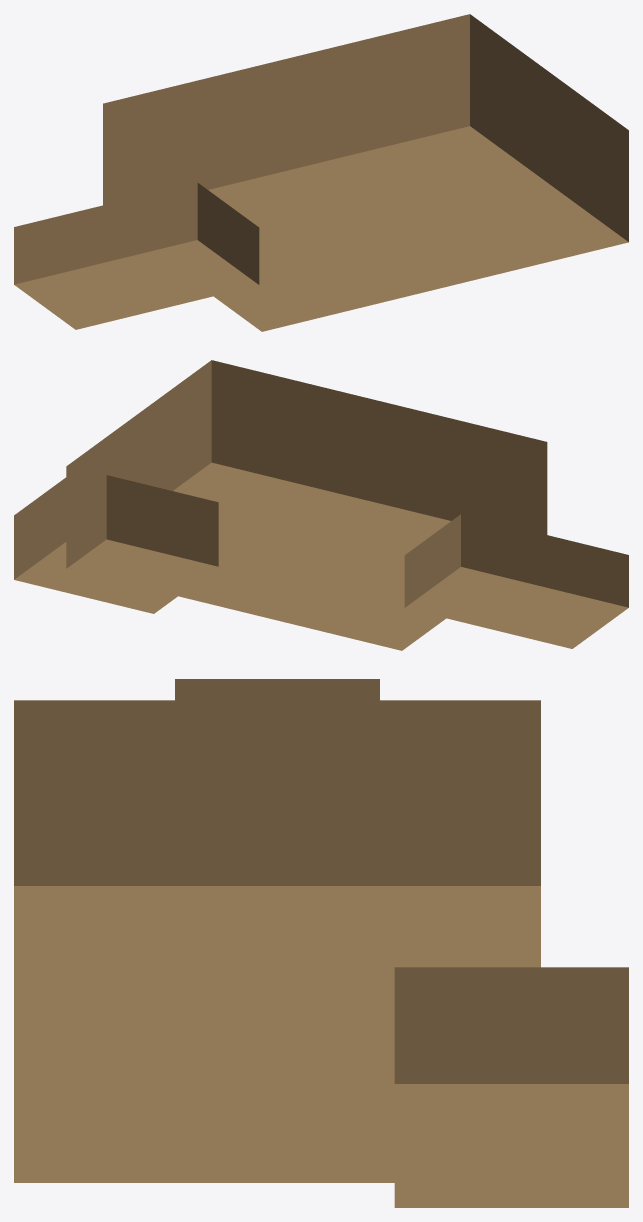
The model's file is SM_KoaTradingPost_Alpha.gltf.
3 views of the same model, one above another, from view 1: azimuth 30°, elevation 25°; view 2: azimuth 150°, elevation 25°; view 3: azimuth 270°, elevation 25° (orthographic). The views are drawn at different scales.
Visible parts, largest first — view 1: SM_KoaTradingPost_Alpha; view 2: SM_KoaTradingPost_Alpha; view 3: SM_KoaTradingPost_Alpha.
Part boxes in pixels (<box>): SM_KoaTradingPost_Alpha: <box>14,14,628,331</box>; SM_KoaTradingPost_Alpha: <box>14,360,628,650</box>; SM_KoaTradingPost_Alpha: <box>14,679,628,1207</box>.
Bounding box in the file's own units: 3.5 × 0.7 × 2.1.
